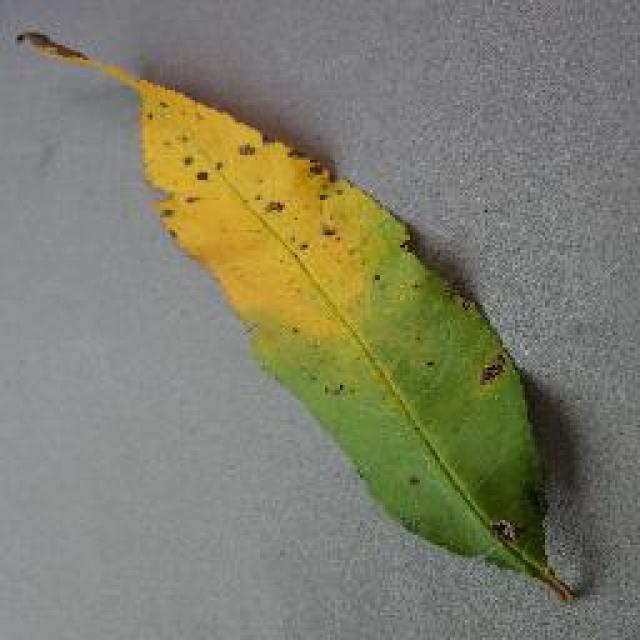Peach_Bacterial_Spot: (158, 49, 417, 348)
